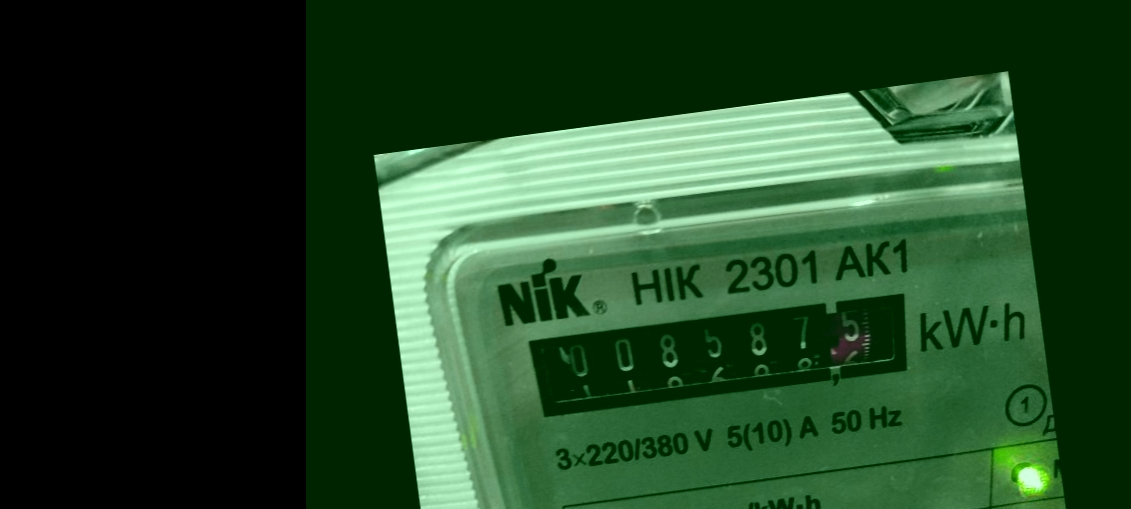0: (609, 332, 638, 375)
1: (563, 338, 592, 382)
5: (836, 303, 865, 346), (699, 321, 727, 362)
7: (787, 310, 815, 354)
8: (652, 328, 683, 372), (744, 317, 770, 360)
screen: (505, 269, 935, 442)
